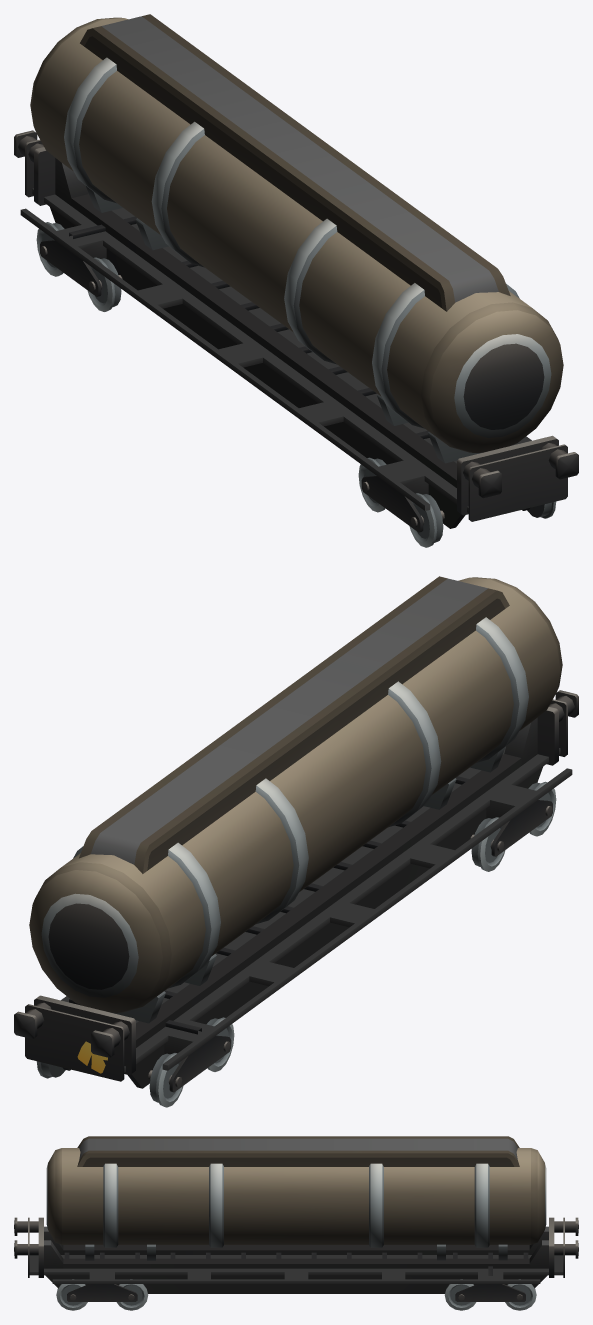
The model's file is Train_Cart_5B.fbx.
3 views of the same model, one above another, from view 1: azimuth 30°, elevation 25°; view 2: azimuth 150°, elevation 25°; view 3: azimuth 270°, elevation 25° (orthographic). The views are drawn at different scales.
Parts seen in each view (by area): view 1: Train_Cart_5B, Train_Cart_5B_Wheel_F.R, Train_Cart_5B_Wheel_M2.R; view 2: Train_Cart_5B, Train_Cart_5B_Wheel_R.R, Train_Cart_5B_Wheel_M1.R; view 3: Train_Cart_5B, Train_Cart_5B_Wheel_M1.L, Train_Cart_5B_Wheel_M2.L, Train_Cart_5B_Wheel_F.L, Train_Cart_5B_Wheel_R.L.
Part boxes in pixels (x1,y1,x2,y2): Train_Cart_5B: (14,14,578,532); Train_Cart_5B_Wheel_F.R: (409,493,443,547); Train_Cart_5B_Wheel_M2.R: (87,257,121,311); Train_Cart_5B: (14,576,578,1092); Train_Cart_5B_Wheel_R.R: (149,1053,183,1107); Train_Cart_5B_Wheel_M1.R: (471,817,505,871); Train_Cart_5B: (14,1136,578,1301); Train_Cart_5B_Wheel_M1.L: (116,1279,148,1310); Train_Cart_5B_Wheel_M2.L: (444,1279,476,1310); Train_Cart_5B_Wheel_F.L: (56,1279,87,1310); Train_Cart_5B_Wheel_R.L: (505,1279,536,1310).
Size of the model in its own units: 2.93 by 4.63 by 16.
